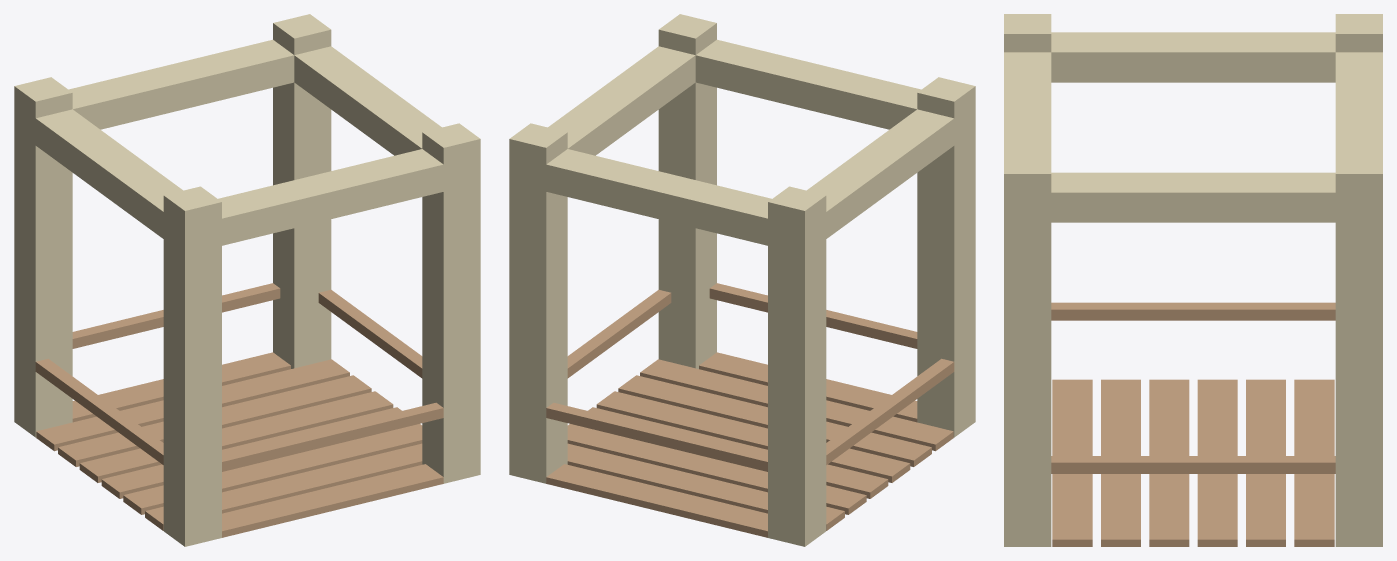
The model's file is towersquaremidopen.glb.
The picture shows the model from 3 angles, left to right: view 1: azimuth 30°, elevation 25°; view 2: azimuth 150°, elevation 25°; view 3: azimuth 270°, elevation 25°; orthographic projection. The views are drawn at different scales.
Visible parts, largest first — view 1: towerSquareMidOpen, plank 15, plank 11, plank 14, plank 13, plank 12, plank 8, rail 5, plank 9, rail 6, rail 7, rail 8 (+1 smaller); view 2: towerSquareMidOpen, plank 9, plank 10, plank 12, plank 8, plank 14, plank 13, rail 7, plank 15, rail 6, rail 5, rail 8 (+1 smaller); view 3: towerSquareMidOpen, plank 8, plank 13, plank 10, plank 11, plank 12, plank 14, rail 6, rail 8.
Boxes of the visible parts, box(x1,y1,x2,y2) form: towerSquareMidOpen: box(14, 14, 480, 546); plank 15: box(222, 464, 443, 537); plank 11: box(79, 391, 393, 482); plank 14: box(123, 424, 422, 514); plank 13: box(36, 359, 349, 451); plank 12: box(58, 375, 371, 466); plank 8: box(145, 443, 422, 530); rail 5: box(222, 402, 443, 471); plank 9: box(72, 352, 290, 422); rail 6: box(35, 358, 163, 464); rail 7: box(72, 283, 280, 348); rail 8: box(318, 289, 422, 378); towerSquareMidOpen: box(509, 14, 975, 546); plank 9: box(546, 464, 767, 537); plank 10: box(596, 391, 910, 482); plank 12: box(567, 424, 866, 514); plank 8: box(640, 359, 953, 451); plank 14: box(618, 375, 931, 466); plank 13: box(567, 443, 844, 530); rail 7: box(546, 402, 767, 471); plank 15: box(699, 352, 917, 422); rail 6: box(826, 358, 954, 464); rail 5: box(709, 283, 917, 348); rail 8: box(567, 289, 671, 378); towerSquareMidOpen: box(1004, 14, 1382, 546); plank 8: box(1052, 379, 1092, 546); plank 13: box(1294, 379, 1334, 546); plank 10: box(1149, 379, 1189, 546); plank 11: box(1197, 379, 1237, 546); plank 12: box(1246, 379, 1285, 546); plank 14: box(1101, 379, 1140, 546); rail 6: box(1051, 302, 1335, 320); rail 8: box(1051, 456, 1335, 473).
Bounding box in the file's own units: 9.3 × 10.1 × 9.3.
